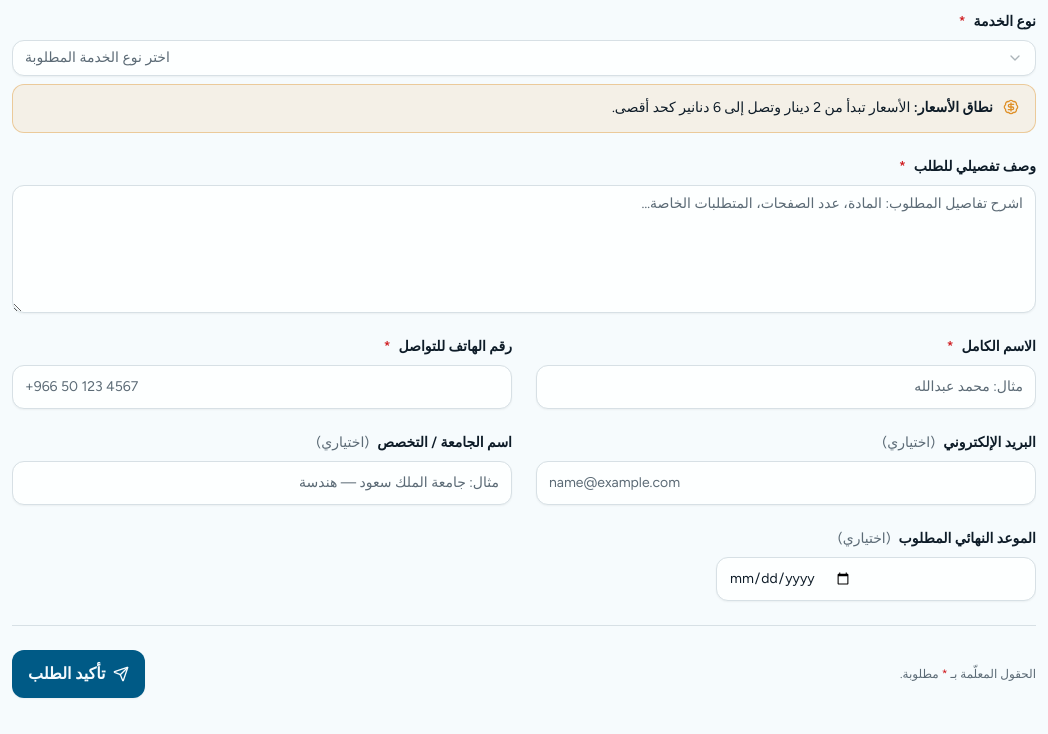
Test case: RequestForm › shows Arabic validation errors and does not submit an incomplete form
This screenshot has width=1048, height=734.
Click the button with test id "request.submit_button".
click(79, 674)  # box [12,650,146,698]
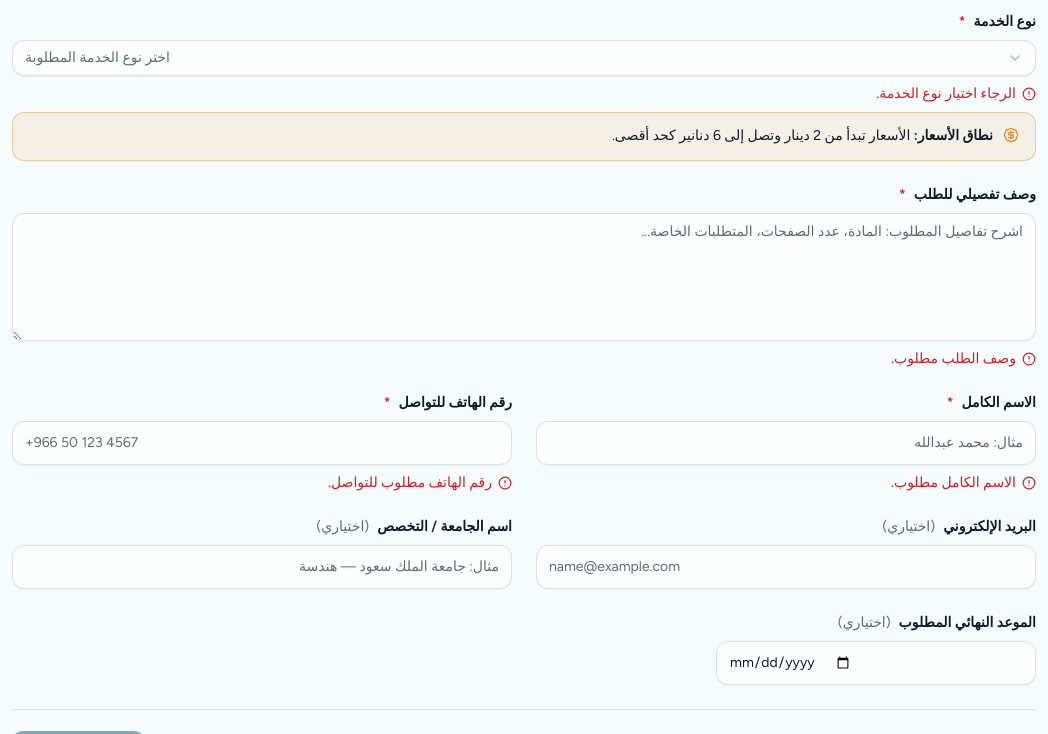
Check: the text "الرجاء اختيار نوع الخدمة." is shown, box [876,85,1036,102]
Check: the text "الاسم الكامل مطلوب." is shown, box [891,474,1036,491]
Check: the text "وصف الطلب مطلوب." is shown, box [891,350,1036,367]
